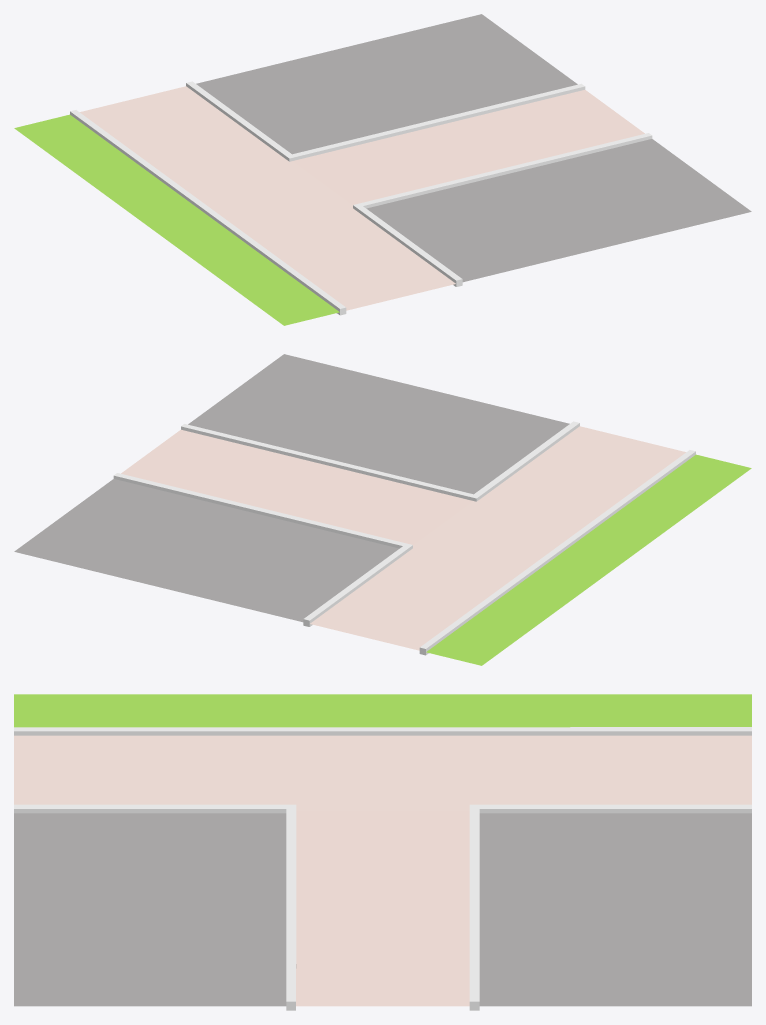
Rendered from building_platform_006.glb.
3 renders of one model, top to bottom at view 1: azimuth 30°, elevation 25°; view 2: azimuth 150°, elevation 25°; view 3: azimuth 270°, elevation 25°, orthographic. The views are drawn at different scales.
Parts seen in each view (by area): view 1: building_platform_006; view 2: building_platform_006; view 3: building_platform_006.
Boxes of the visible parts, bbox=[...] form: building_platform_006: bbox=[14, 14, 751, 325]; building_platform_006: bbox=[14, 354, 751, 665]; building_platform_006: bbox=[14, 694, 751, 1010].
Size of the model in its own units: 15 by 0.2 by 15.
Materials: 1 (1 with a texture image).
